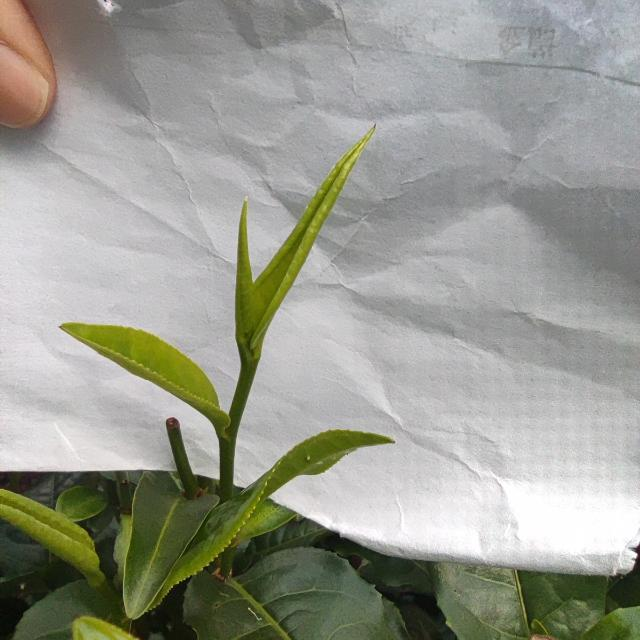Stem: (220, 434, 235, 453)
